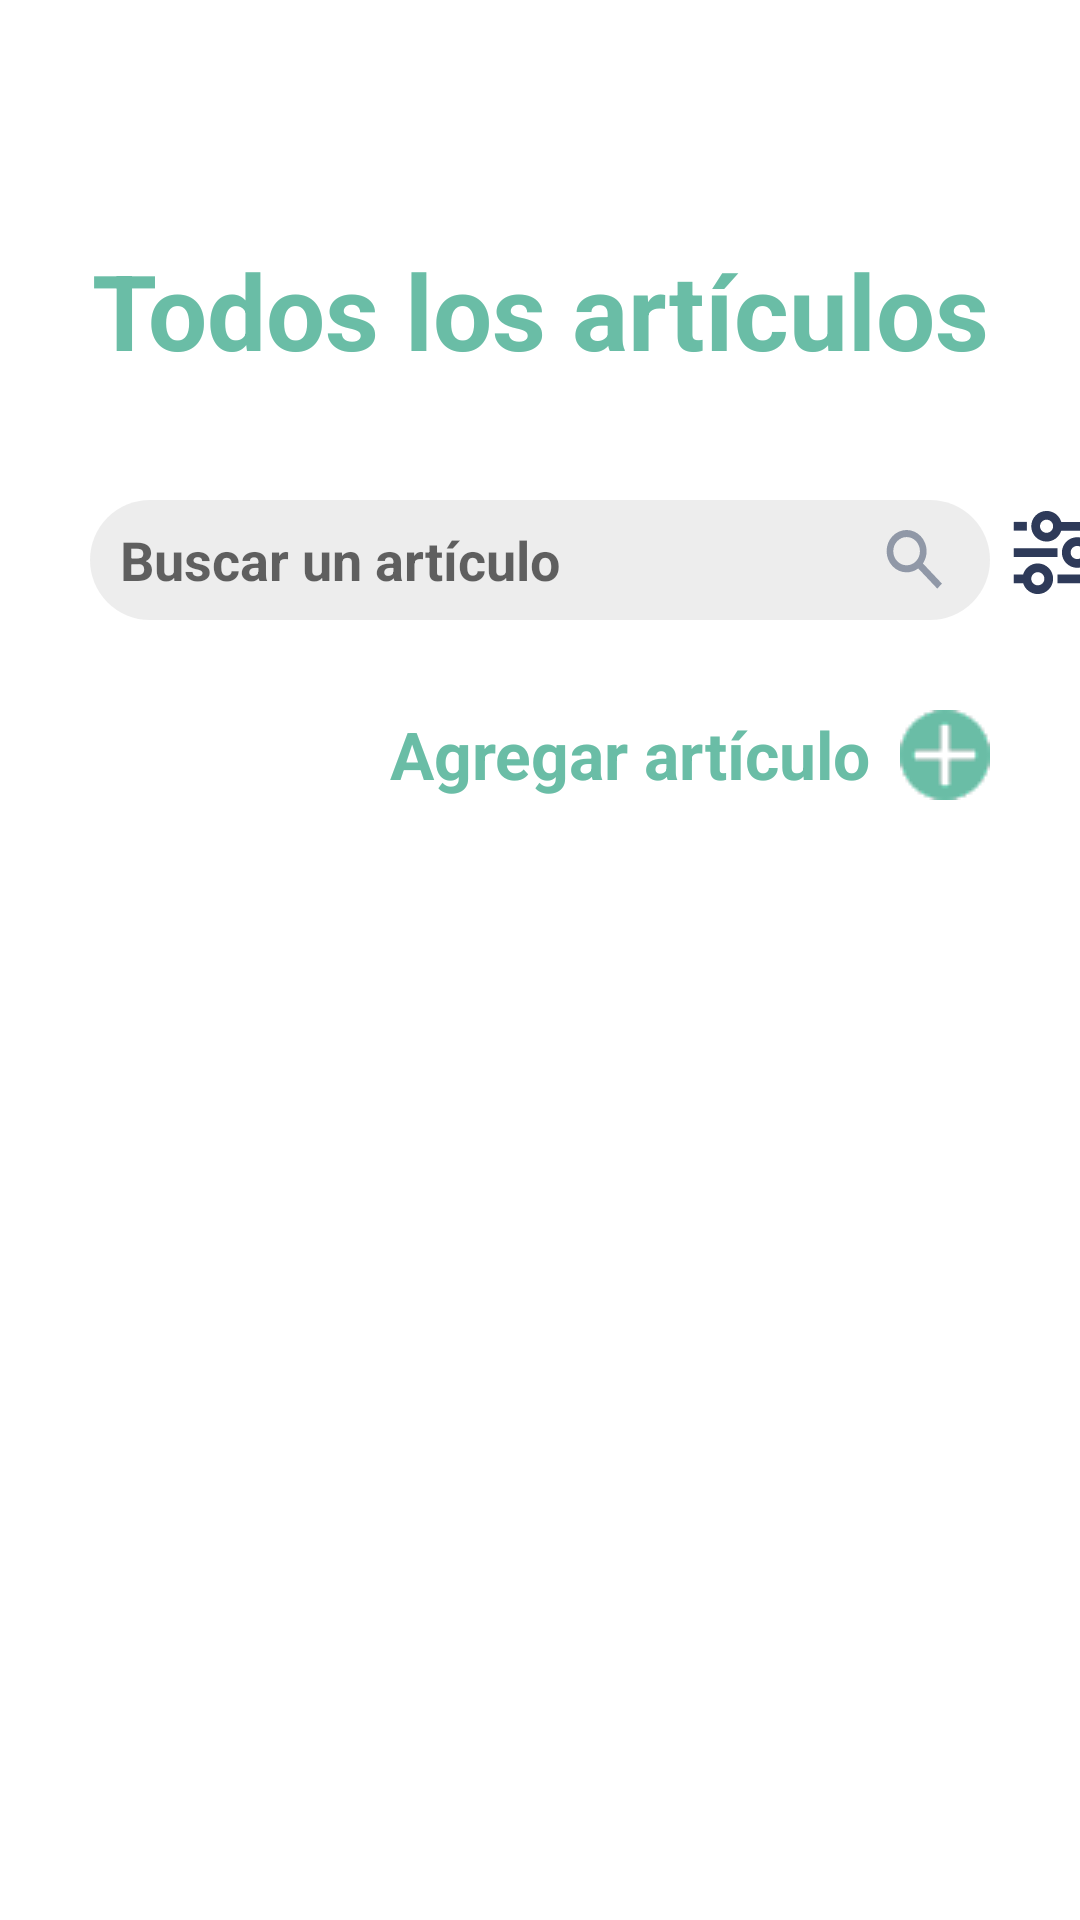

Icon click points for this 1080 × 1920 phone screenshot, format (x=x, y=y):
add: (x=945, y=755)
search: (x=914, y=559)
